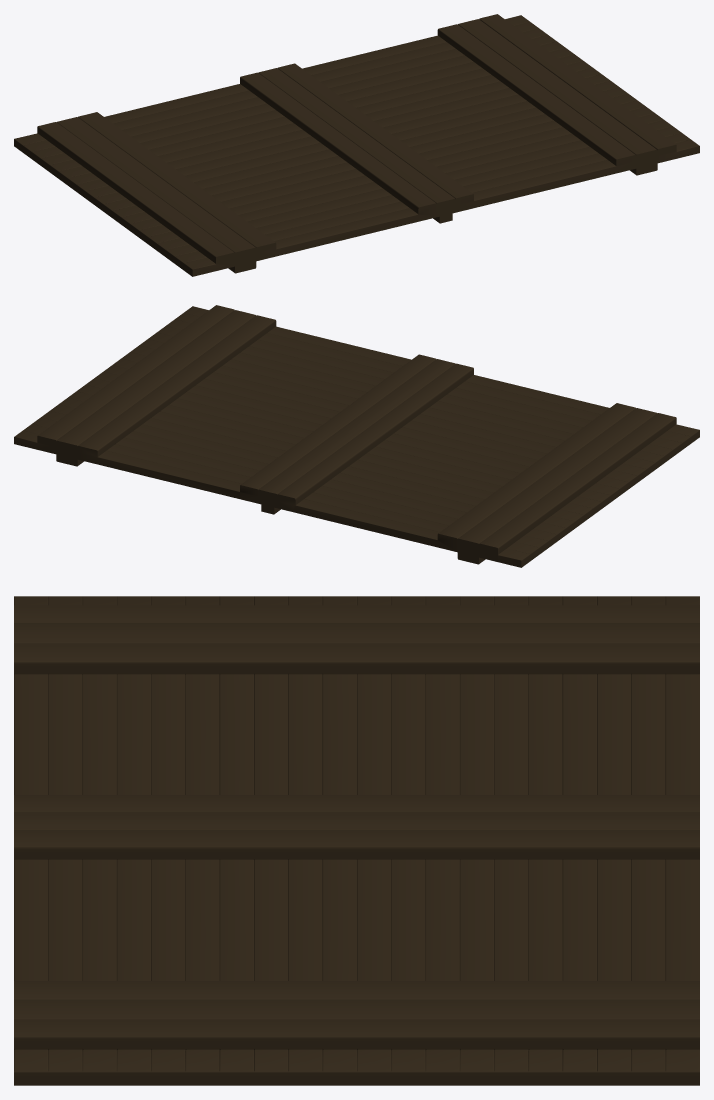
File: passage_voiture.gltf
The picture shows the model from 3 angles, top to bottom: view 1: azimuth 30°, elevation 25°; view 2: azimuth 150°, elevation 25°; view 3: azimuth 270°, elevation 25°; orthographic projection. The views are drawn at different scales.
Parts seen in each view (by area): view 1: Cube; view 2: Cube; view 3: Cube.
Part boxes in pixels (left/top/right/bottom): Cube: left=14, top=14, right=699, bottom=276; Cube: left=14, top=305, right=699, bottom=567; Cube: left=14, top=596, right=699, bottom=1085.
Size of the model in its own units: 9.78 by 0.3933 by 5.96.
